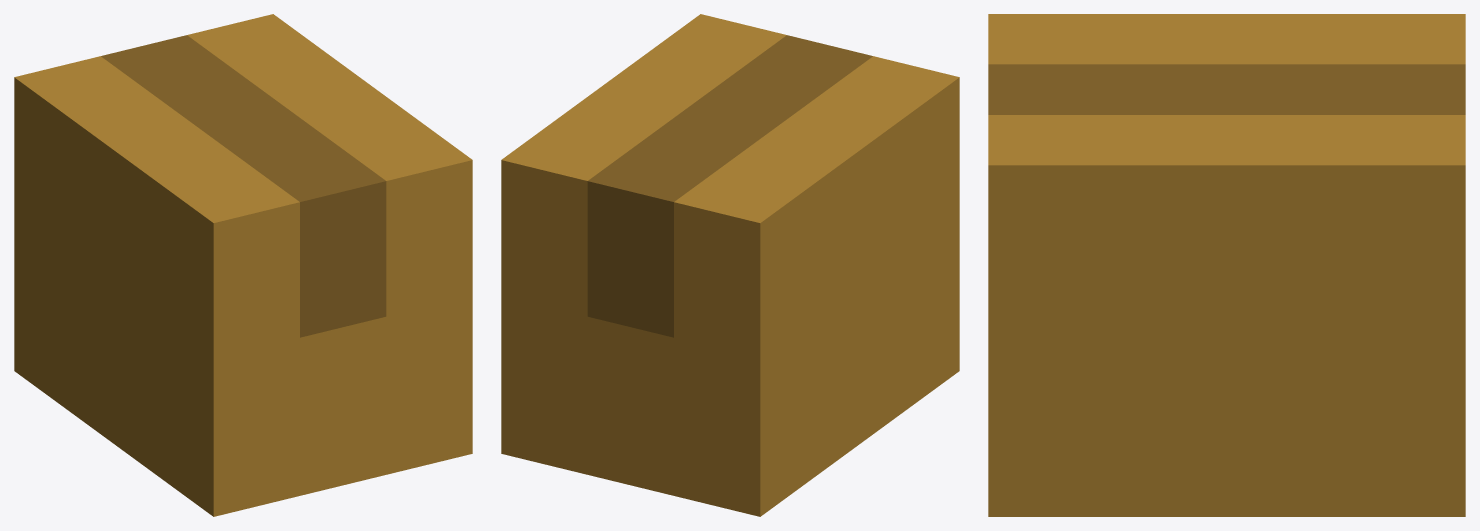
3 renders of one model, left to right at view 1: azimuth 30°, elevation 25°; view 2: azimuth 150°, elevation 25°; view 3: azimuth 270°, elevation 25°, orthographic. The views are drawn at different scales.
Visible parts, largest first — view 1: Untitled; view 2: Untitled; view 3: Untitled.
Boxes of the visible parts, box(x1,y1,x2,y2) form: Untitled: box(14, 14, 472, 516); Untitled: box(501, 14, 959, 516); Untitled: box(988, 14, 1465, 516).
Bounding box in the file's own units: 0.36 × 0.39 × 0.48.
Materials: 1 (1 with a texture image).
